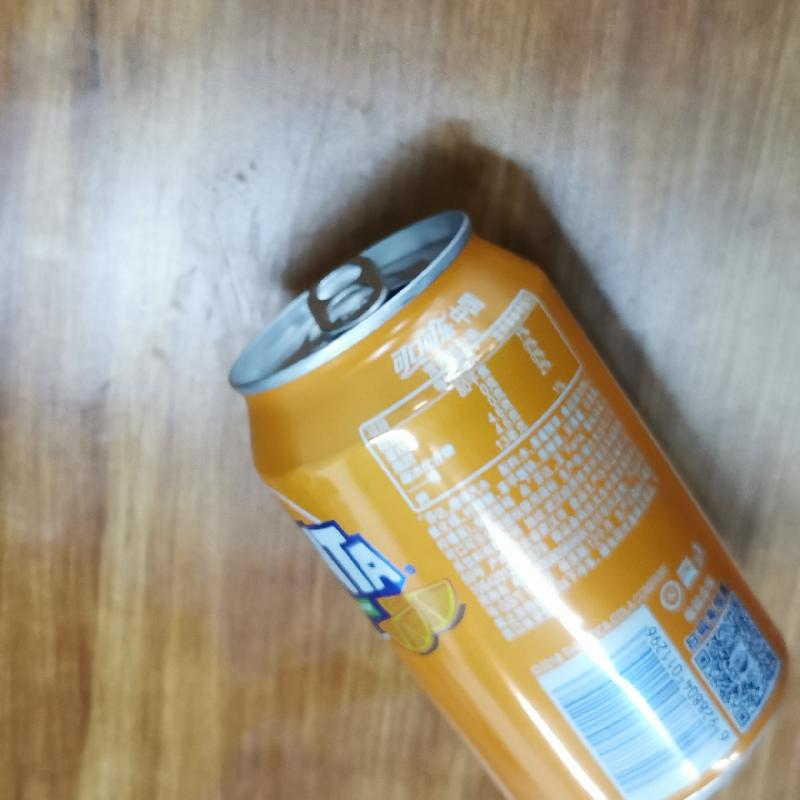cans: (224, 211, 792, 799)
